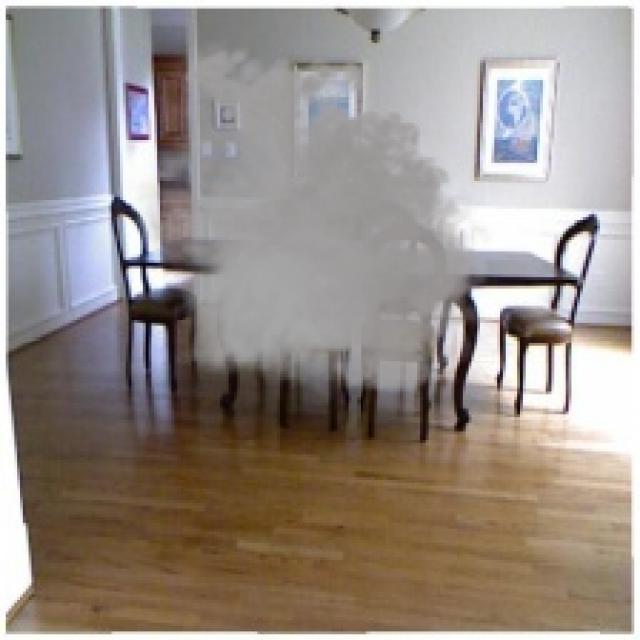Smoke: (126, 37, 500, 406)
